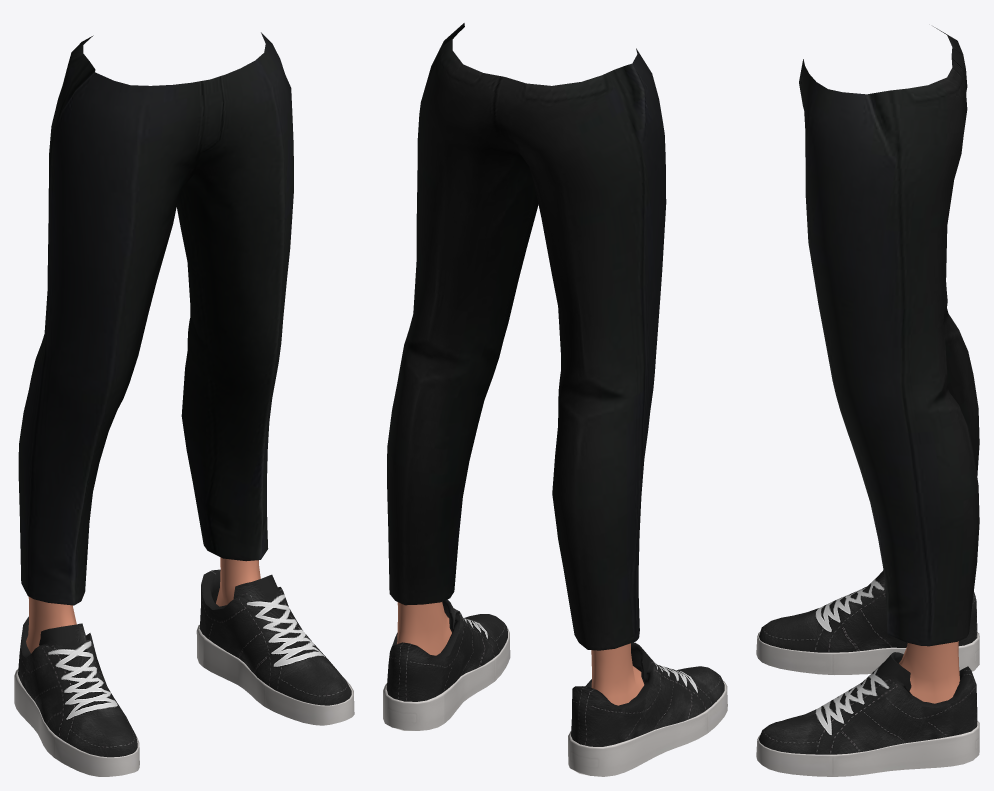
The picture shows the model from 3 angles, left to right: view 1: azimuth 30°, elevation 25°; view 2: azimuth 150°, elevation 25°; view 3: azimuth 270°, elevation 25°; orthographic projection. The views are drawn at different scales.
Visible parts, largest first — view 1: Wolf3D_Outfit_Bottom.001, Wolf3D_Outfit_Footwear.001, Wolf3D_Body; view 2: Wolf3D_Outfit_Bottom.001, Wolf3D_Outfit_Footwear.001, Wolf3D_Body; view 3: Wolf3D_Outfit_Bottom.001, Wolf3D_Outfit_Footwear.001, Wolf3D_Body.
Part boxes in pixels (bbox=[...]): Wolf3D_Outfit_Bottom.001: bbox=[18, 32, 293, 605]; Wolf3D_Outfit_Footwear.001: bbox=[14, 569, 354, 776]; Wolf3D_Body: bbox=[26, 557, 260, 653]; Wolf3D_Outfit_Bottom.001: bbox=[387, 23, 666, 650]; Wolf3D_Outfit_Footwear.001: bbox=[383, 599, 727, 776]; Wolf3D_Body: bbox=[397, 602, 644, 705]; Wolf3D_Outfit_Bottom.001: bbox=[799, 26, 979, 646]; Wolf3D_Outfit_Footwear.001: bbox=[756, 570, 979, 776]; Wolf3D_Body: bbox=[899, 641, 959, 703].
Size of the model in its own units: 4.75 by 10.68 by 3.3.
Materials: 3 (2 with a texture image).
